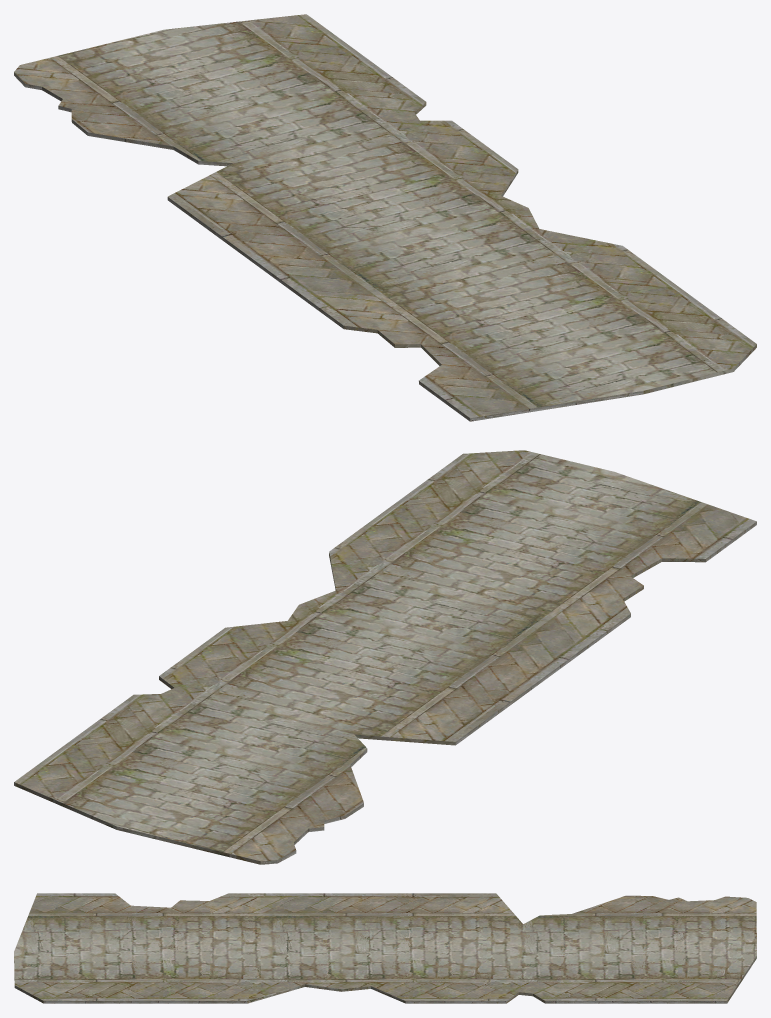
Rendered from Hangzhou_wj_026_1.FBX.
3 renders of one model, top to bottom at view 1: azimuth 30°, elevation 25°; view 2: azimuth 150°, elevation 25°; view 3: azimuth 270°, elevation 25°, orthographic. The views are drawn at different scales.
Visible parts, largest first — view 1: Object01; view 2: Object01; view 3: Object01.
Part boxes in pixels (x1,y1,x2,y2): Object01: (14,14,756,421); Object01: (14,450,756,864); Object01: (14,893,756,1003).
Bounding box in the file's own units: 5.7 × 0.0662 × 16.61.
1 material, 1 textured.
